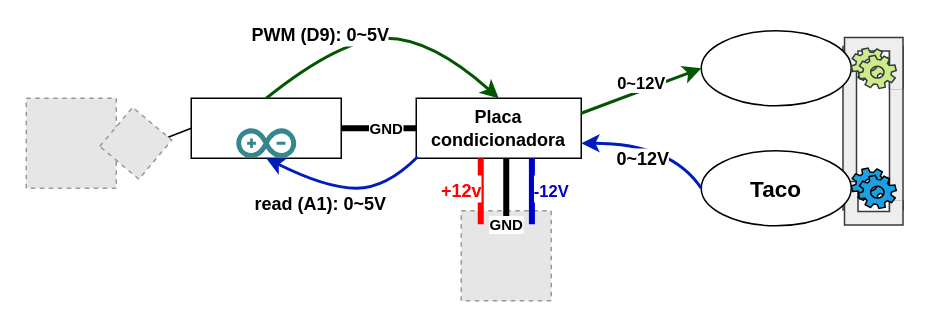
Image size: 932x329. Some labels were removed from this diagram. Grey dashed boxes stand in for pictures. Each missing label, with the box of its shape:
Arduino: (190, 97, 341, 158)
Motor: (700, 29, 851, 106)
